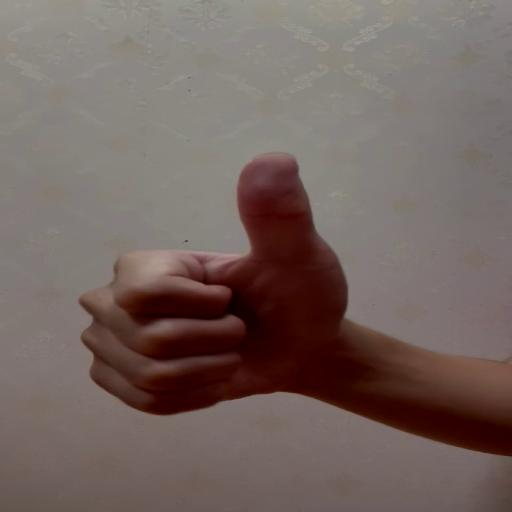thumbs_up: (74, 152, 348, 417)
